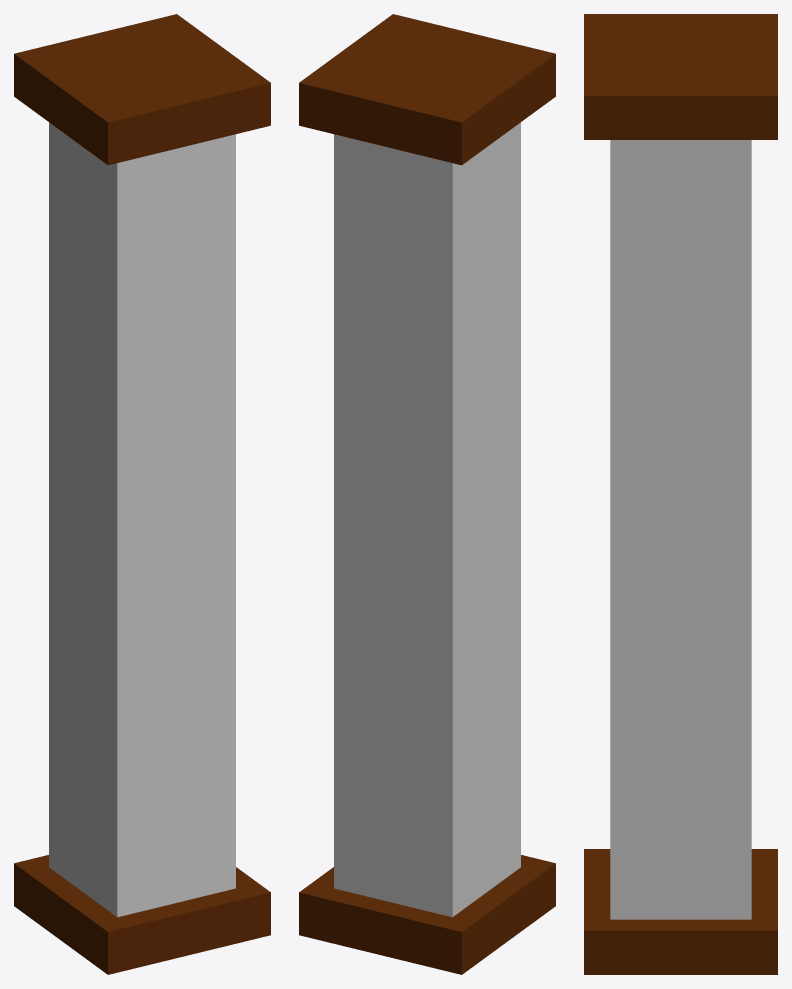
Rendered from Pillar.fbx.
3 views of the same model, side by side, from view 1: azimuth 30°, elevation 25°; view 2: azimuth 150°, elevation 25°; view 3: azimuth 270°, elevation 25° (orthographic). The views are drawn at different scales.
Parts seen in each view (by area): view 1: Cube; view 2: Cube; view 3: Cube.
Boxes of the visible parts, bbox=[...] form: Cube: bbox=[14, 14, 270, 974]; Cube: bbox=[299, 14, 555, 974]; Cube: bbox=[584, 14, 777, 974].
Bounding box in the file's own units: 200 × 1000 × 200.
